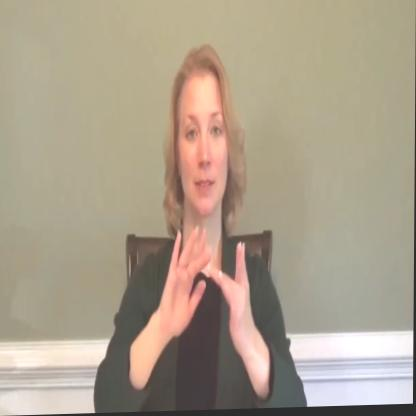Internet: (161, 219, 264, 382)
